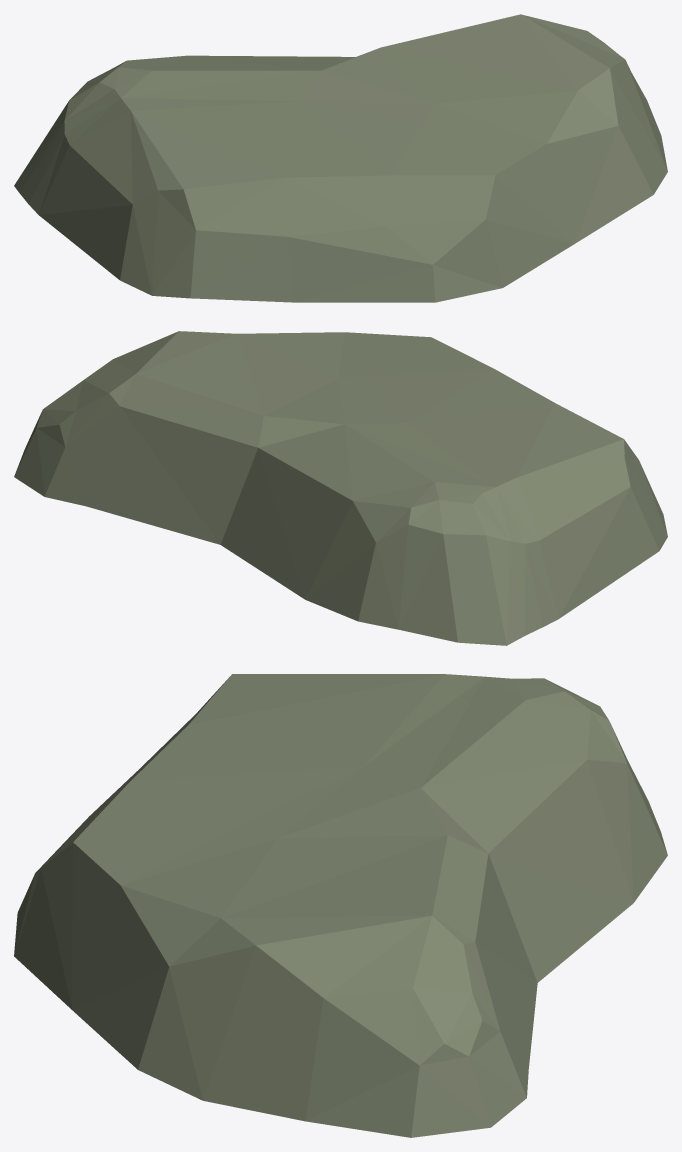
The model's file is quaternius-nature__Pebble_Round_1__meadow.fbx.
The picture shows the model from 3 angles, top to bottom: view 1: azimuth 30°, elevation 25°; view 2: azimuth 150°, elevation 25°; view 3: azimuth 270°, elevation 25°; orthographic projection. The views are drawn at different scales.
Parts seen in each view (by area): view 1: quaternius-nature__Pebble_Round_1__meadow_stone; view 2: quaternius-nature__Pebble_Round_1__meadow_stone; view 3: quaternius-nature__Pebble_Round_1__meadow_stone.
Part boxes in pixels (<box>): quaternius-nature__Pebble_Round_1__meadow_stone: <box>14,14,667,302</box>; quaternius-nature__Pebble_Round_1__meadow_stone: <box>14,331,667,645</box>; quaternius-nature__Pebble_Round_1__meadow_stone: <box>14,674,667,1137</box>.
Size of the model in its own units: 1.79 by 0.341 by 1.31.
1 material, 1 textured.
